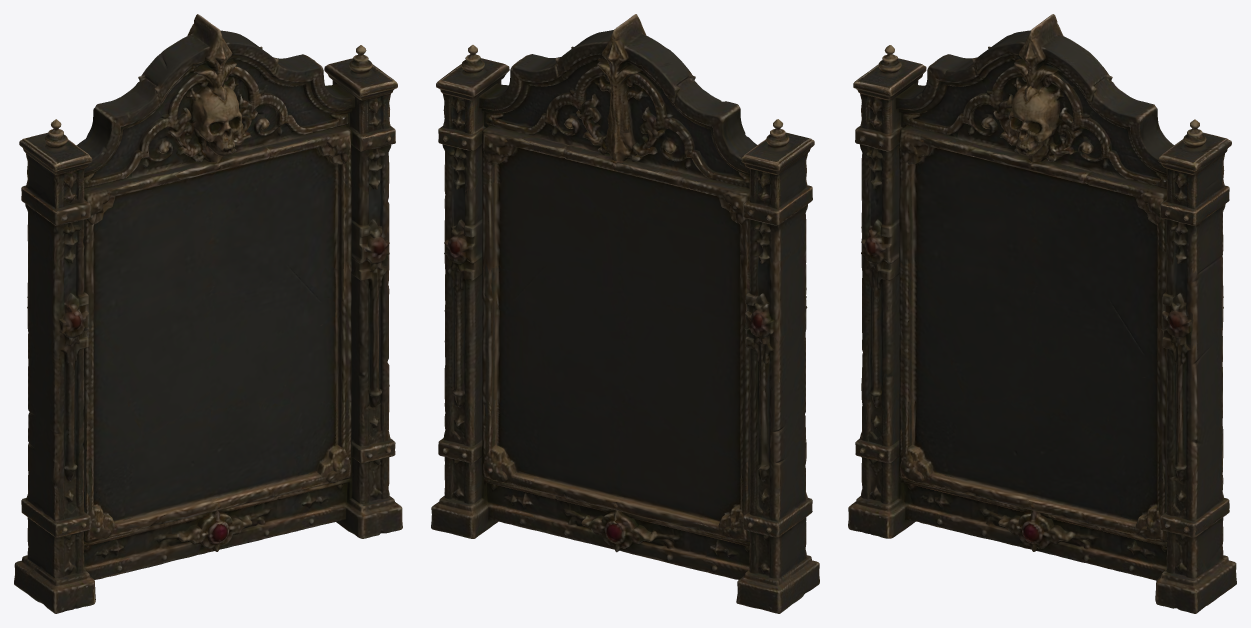
File: pattern_board.glb
3 views of the same model, side by side, from view 1: azimuth 30°, elevation 25°; view 2: azimuth 150°, elevation 25°; view 3: azimuth 330°, elevation 25° (orthographic).
Parts seen in each view (by area): view 1: tripo_node_30fc396a-73dc-49cb-a9e1-65ad0ef7a6a1; view 2: tripo_node_30fc396a-73dc-49cb-a9e1-65ad0ef7a6a1; view 3: tripo_node_30fc396a-73dc-49cb-a9e1-65ad0ef7a6a1.
Part boxes in pixels (bbox=[...]): tripo_node_30fc396a-73dc-49cb-a9e1-65ad0ef7a6a1: bbox=[14, 14, 402, 613]; tripo_node_30fc396a-73dc-49cb-a9e1-65ad0ef7a6a1: bbox=[431, 14, 819, 613]; tripo_node_30fc396a-73dc-49cb-a9e1-65ad0ef7a6a1: bbox=[848, 14, 1236, 613].
Bounding box in the file's own units: 0.6824 × 1 × 0.1412.
Materials: 1 (1 with a texture image).
